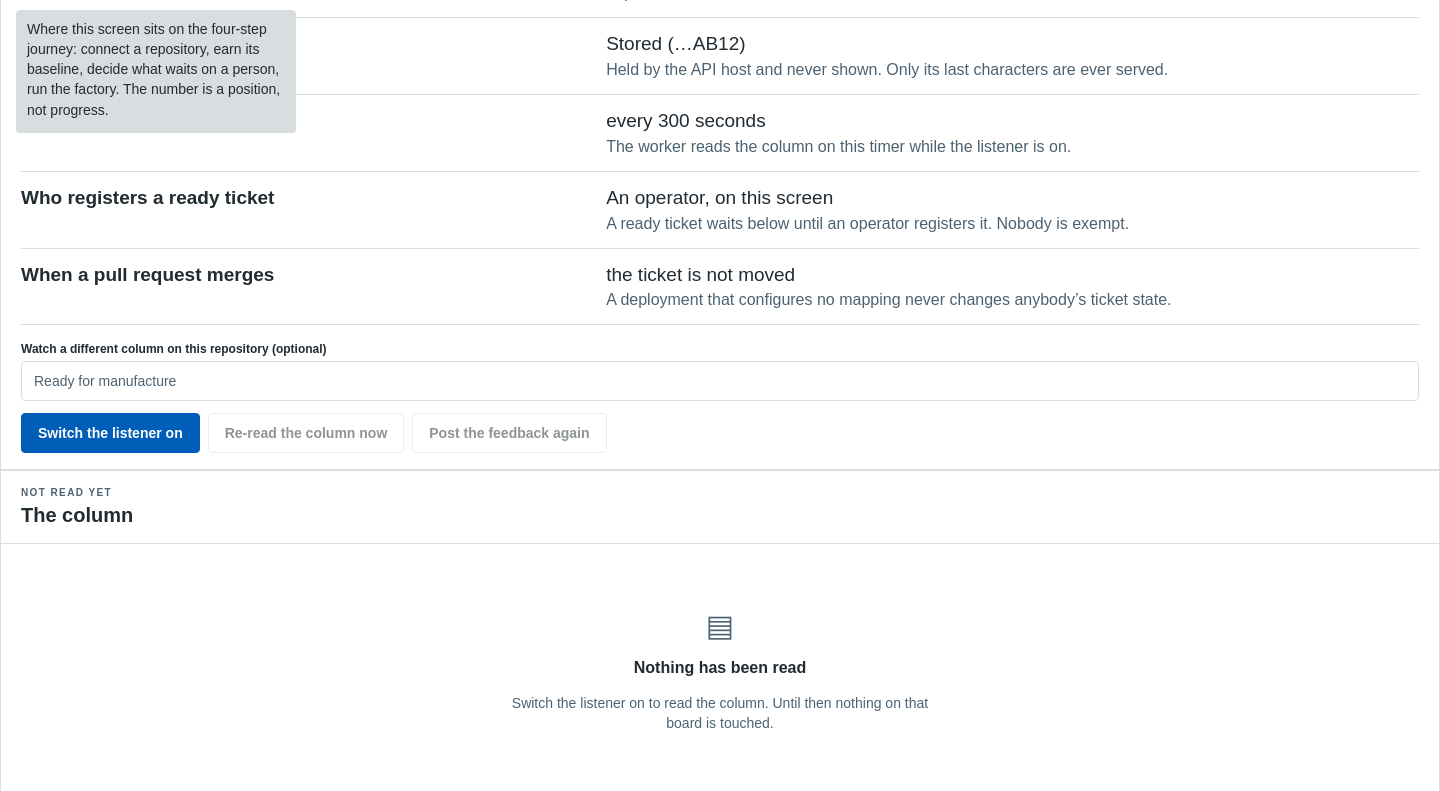
IntakePage › switching the listener on sends the PUT and says what it will now do
(page scrolled)
Click the button "Switch the listener on" at (110, 434), box [21,414,200,454]
(page scrolled)
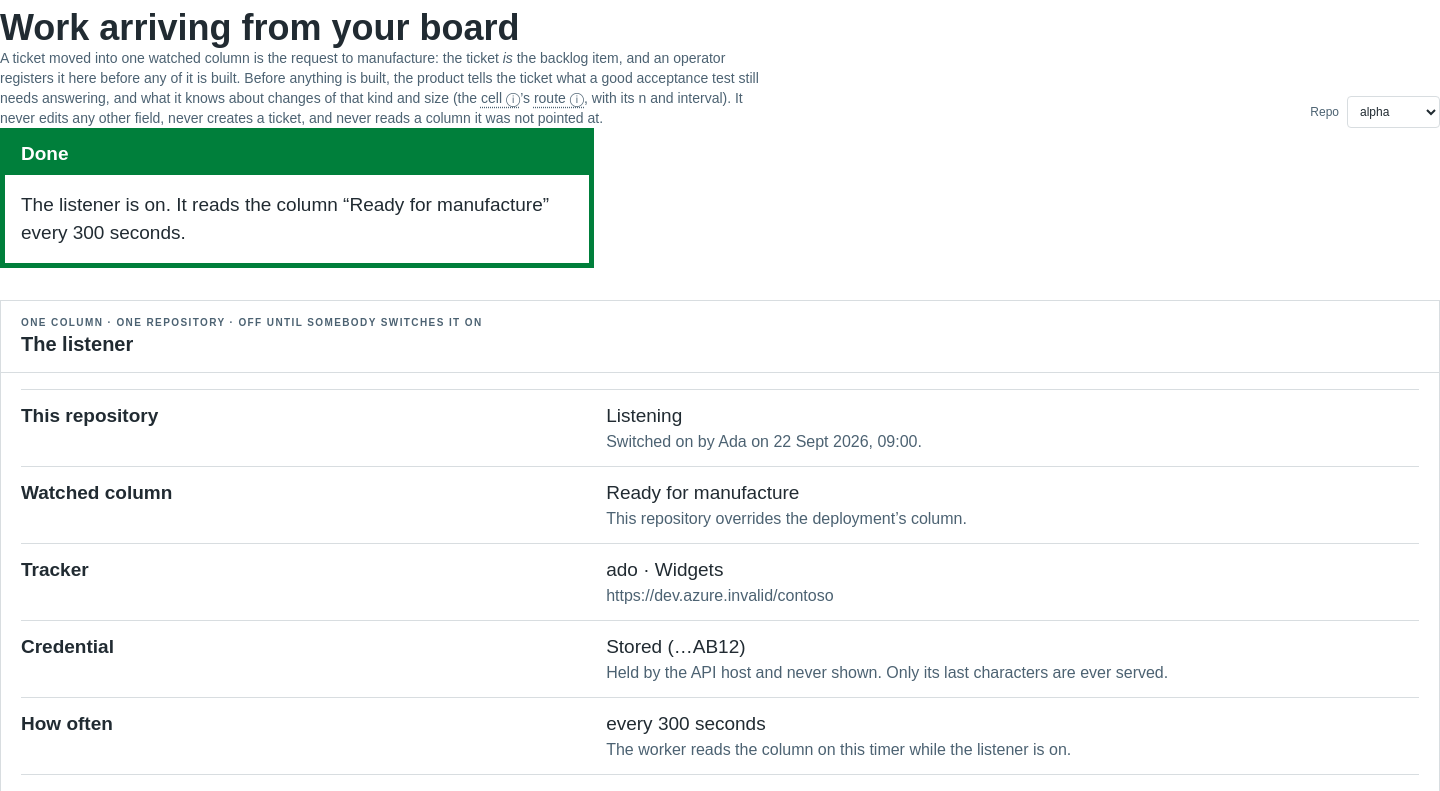
expect the message with test id "intake-success" is shown: met, box [21,191,573,247]
expect the message with test id "intake-success" shows "Ready for manufacture": met, box [21,194,549,243]
expect the message with test id "intake-success" shows "300": met, box [21,194,549,243]
